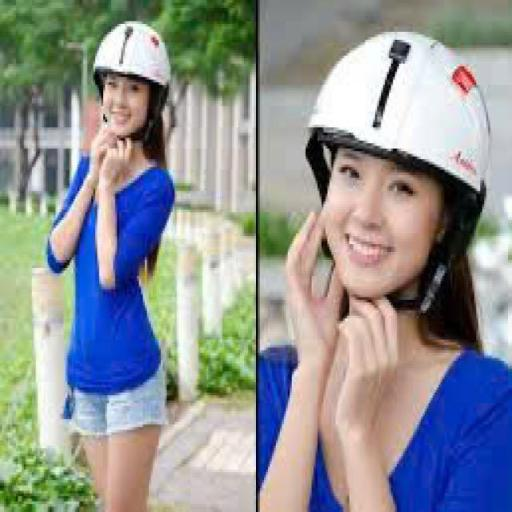with helmet: (304, 26, 498, 196), (89, 18, 175, 92)
